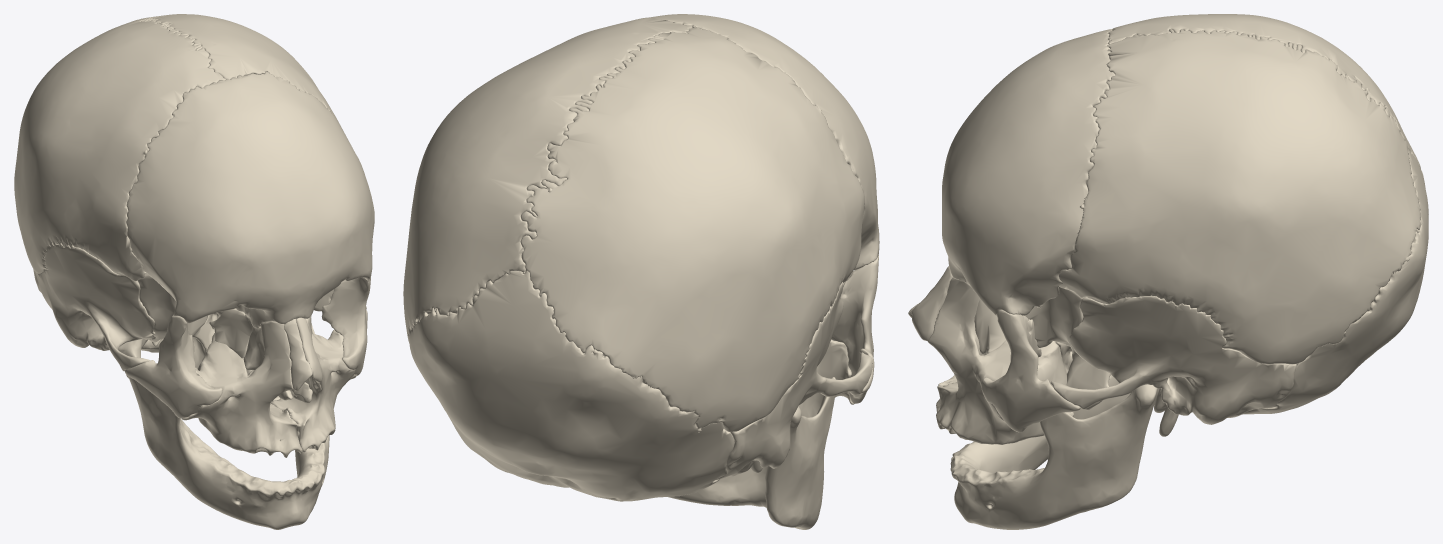
The model's file is region-0.glb.
The picture shows the model from 3 angles, left to right: view 1: azimuth 30°, elevation 25°; view 2: azimuth 150°, elevation 25°; view 3: azimuth 270°, elevation 25°; orthographic projection. The views are drawn at different scales.
Visible parts, largest first — view 1: bone_frontal_M, bone_parietal_R, bone_mandible_M, bone_maxilla_R, bone_temporal_R, bone_parietal_L, bone_zygomatic_R, bone_maxilla_L, bone_zygomatic_L, bone_sphenoid_M, bone_ethmoid_M, bone_nasal_R (+2 smaller); view 2: bone_parietal_R, bone_occipital_M, bone_parietal_L, bone_frontal_M, bone_mandible_M, bone_temporal_R, bone_zygomatic_R, bone_maxilla_R; view 3: bone_parietal_L, bone_frontal_M, bone_temporal_L, bone_mandible_M, bone_maxilla_L, bone_occipital_M, bone_parietal_R, bone_zygomatic_L, bone_sphenoid_M, bone_nasal_L, bone_lacrimal_L.
Boxes of the visible parts, x1=… form: bone_frontal_M: x1=126, y1=72, x2=374, y2=328; bone_parietal_R: x1=14, y1=18, x2=225, y2=281; bone_mandible_M: x1=118, y1=324, x2=329, y2=529; bone_maxilla_R: x1=182, y1=321, x2=302, y2=457; bone_temporal_R: x1=33, y1=243, x2=155, y2=378; bone_parietal_L: x1=139, y1=14, x2=352, y2=147; bone_zygomatic_R: x1=125, y1=316, x2=222, y2=418; bone_maxilla_L: x1=271, y1=316, x2=356, y2=452; bone_zygomatic_L: x1=321, y1=275, x2=371, y2=375; bone_sphenoid_M: x1=137, y1=273, x2=334, y2=369; bone_ethmoid_M: x1=209, y1=308, x2=260, y2=358; bone_nasal_R: x1=284, y1=319, x2=312, y2=390; bone_parietal_R: x1=520, y1=26, x2=864, y2=432; bone_occipital_M: x1=408, y1=270, x2=734, y2=501; bone_parietal_L: x1=403, y1=17, x2=692, y2=342; bone_frontal_M: x1=651, y1=14, x2=879, y2=270; bone_mandible_M: x1=668, y1=377, x2=835, y2=529; bone_temporal_R: x1=716, y1=280, x2=872, y2=479; bone_zygomatic_R: x1=831, y1=255, x2=878, y2=403; bone_maxilla_R: x1=798, y1=339, x2=854, y2=417; bone_parietal_L: x1=1059, y1=29, x2=1421, y2=364; bone_frontal_M: x1=942, y1=28, x2=1115, y2=315; bone_temporal_L: x1=1050, y1=295, x2=1296, y2=436; bone_mandible_M: x1=950, y1=374, x2=1159, y2=529; bone_maxilla_L: x1=927, y1=277, x2=1066, y2=444; bone_occipital_M: x1=1242, y1=148, x2=1428, y2=414; bone_parietal_R: x1=1108, y1=14, x2=1420, y2=168; bone_zygomatic_L: x1=981, y1=310, x2=1080, y2=432; bone_sphenoid_M: x1=1022, y1=286, x2=1110, y2=410; bone_nasal_L: x1=911, y1=266, x2=952, y2=340; bone_lacrimal_L: x1=974, y1=299, x2=1006, y2=353.
Bounding box in the file's own units: 0.144 × 0.2026 × 0.1973.
